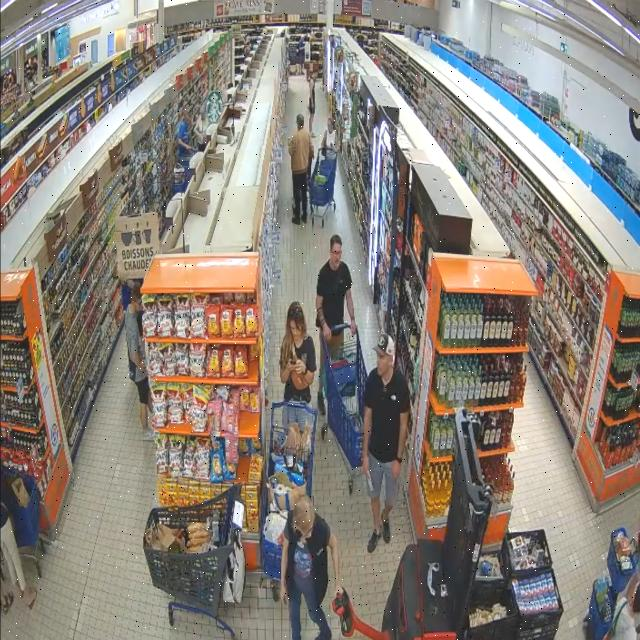article: (287, 137, 291, 140)
bags: (223, 530, 245, 604), (610, 598, 628, 637), (12, 478, 29, 508), (291, 370, 309, 390), (129, 359, 136, 381)
hands: (392, 460, 401, 479), (281, 581, 288, 605), (322, 323, 331, 341), (295, 360, 306, 374), (362, 456, 369, 475), (350, 320, 357, 335), (335, 585, 343, 597), (286, 361, 294, 371), (137, 365, 145, 372), (287, 139, 291, 144)
person: (362, 334, 409, 552), (281, 496, 342, 639), (316, 235, 356, 414), (0, 475, 36, 608), (125, 284, 152, 438), (280, 302, 316, 404), (289, 114, 313, 224), (610, 582, 639, 639), (176, 113, 193, 162), (321, 117, 336, 151), (195, 113, 206, 152)
